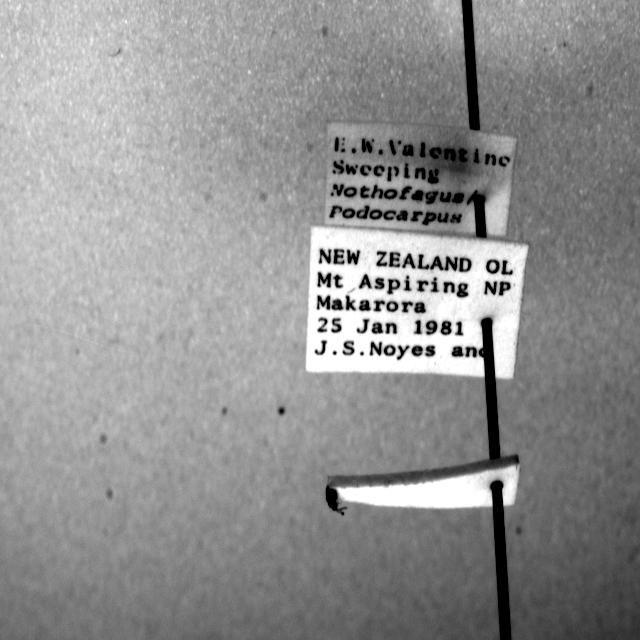typed_label: (306, 227, 528, 379), (325, 122, 516, 236)
